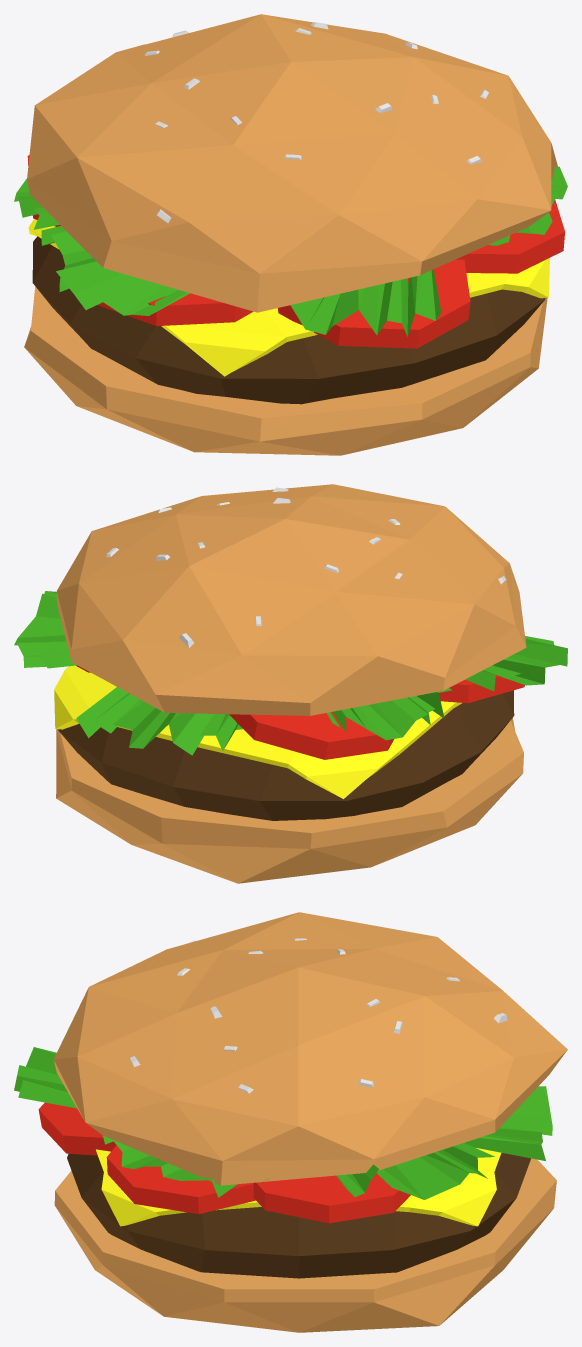
File: Burger.glb
The picture shows the model from 3 angles, top to bottom: view 1: azimuth 30°, elevation 25°; view 2: azimuth 150°, elevation 25°; view 3: azimuth 270°, elevation 25°; orthographic projection. The views are drawn at different scales.
Parts seen in each view (by area): view 1: Burger; view 2: Burger; view 3: Burger.
Part boxes in pixels (x1=…): Burger: x1=14, y1=14, x2=567, y2=455; Burger: x1=14, y1=484, x2=567, y2=883; Burger: x1=14, y1=912, x2=567, y2=1332.
Size of the model in its own units: 165 by 107 by 170.
